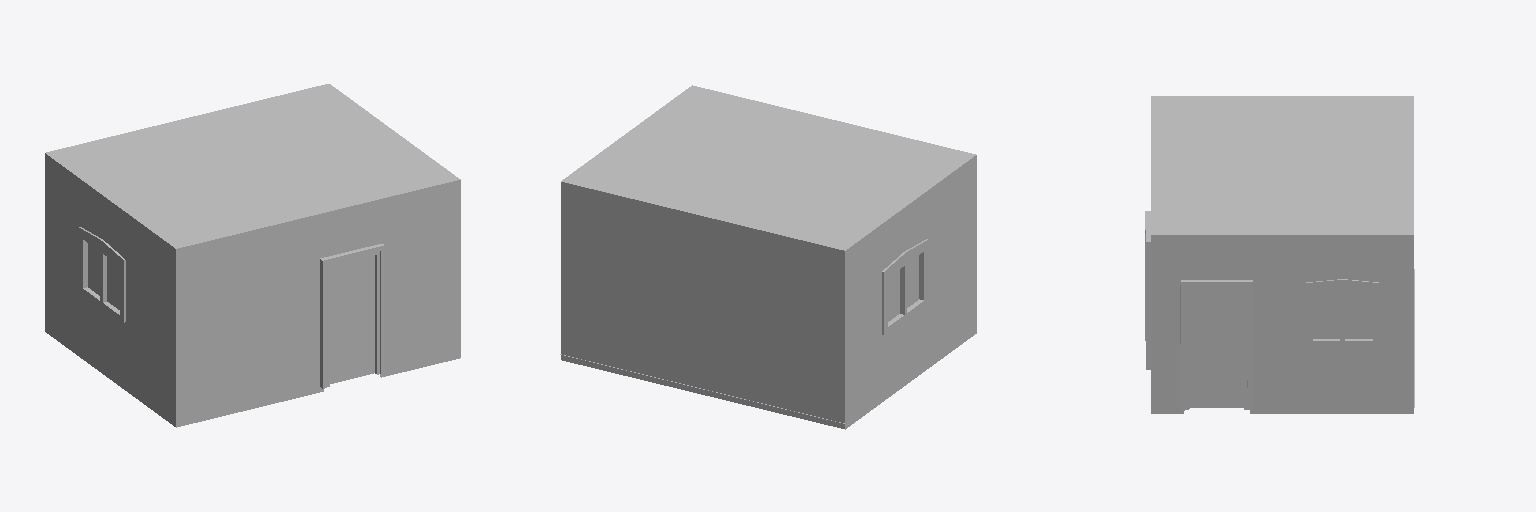
The model's file is kitchen.obj.
The picture shows the model from 3 angles: view 1: azimuth 30°, elevation 25°; view 2: azimuth 150°, elevation 25°; view 3: azimuth 270°, elevation 25°; orthographic projection.
Parts seen in each view (by area): view 1: Room_Plane.004, Door.000_Plane.011, Window_1_Plane.005; view 2: Room_Plane.004, Window_1_Plane.005; view 3: Room_Plane.004, Door.001_Plane.001, Window_1.001_Plane.006, Door.000_Plane.011.
Boxes of the visible parts, x1=… form: Room_Plane.004: x1=45, y1=84, x2=460, y2=427; Door.000_Plane.011: x1=320, y1=244, x2=384, y2=388; Window_1_Plane.005: x1=79, y1=227, x2=125, y2=322; Room_Plane.004: x1=561, y1=85, x2=976, y2=429; Window_1_Plane.005: x1=882, y1=239, x2=927, y2=334; Room_Plane.004: x1=1151, y1=96, x2=1413, y2=413; Door.001_Plane.001: x1=1180, y1=280, x2=1252, y2=410; Window_1.001_Plane.006: x1=1304, y1=279, x2=1380, y2=345; Door.000_Plane.011: x1=1145, y1=211, x2=1150, y2=369.
Size of the model in its own units: 51.43 by 30 by 41.07.